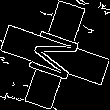M_E: (23, 25, 87, 85)
